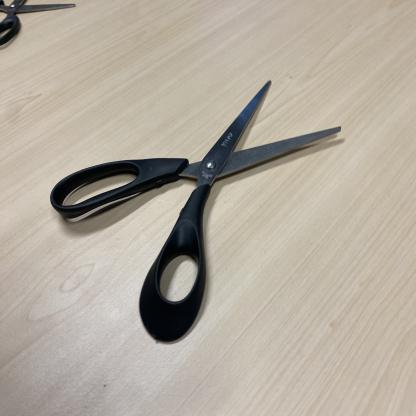scissors: (50, 80, 342, 347), (0, 0, 76, 46)
